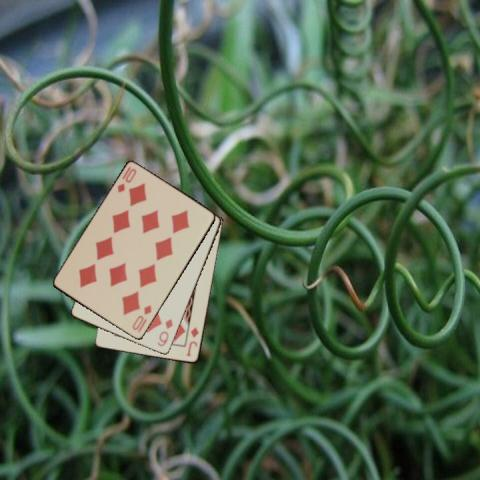10d: (129, 302, 153, 335), (114, 165, 138, 194)
6d: (154, 316, 175, 348)
Jd: (183, 324, 200, 358)
